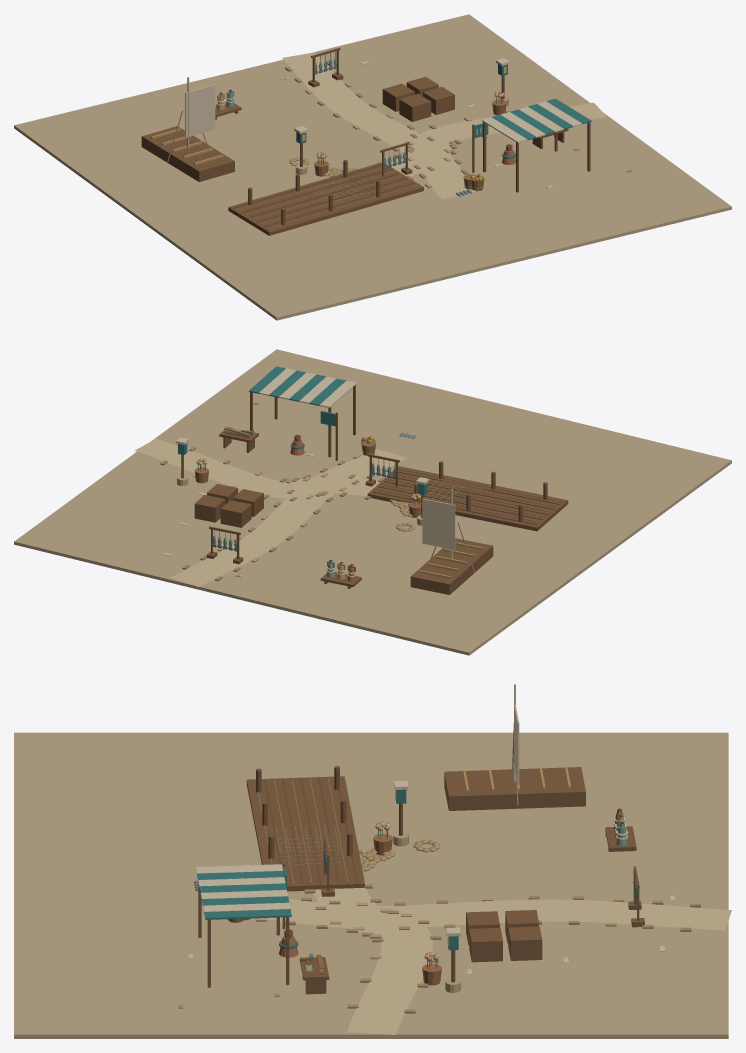
File: city-dock.glb
3 views of the same model, one above another, from view 1: azimuth 30°, elevation 25°; view 2: azimuth 150°, elevation 25°; view 3: azimuth 270°, elevation 25° (orthographic). The views are drawn at different scales.
Parts seen in each view (by area): view 1: city-dock; view 2: city-dock; view 3: city-dock.
Boxes of the visible parts, <box> form: city-dock: <box>14,14,731,320</box>; city-dock: <box>14,349,731,655</box>; city-dock: <box>14,684,731,1038</box>.
Bounding box in the file's own units: 32.14 × 5.72 × 32.15.
